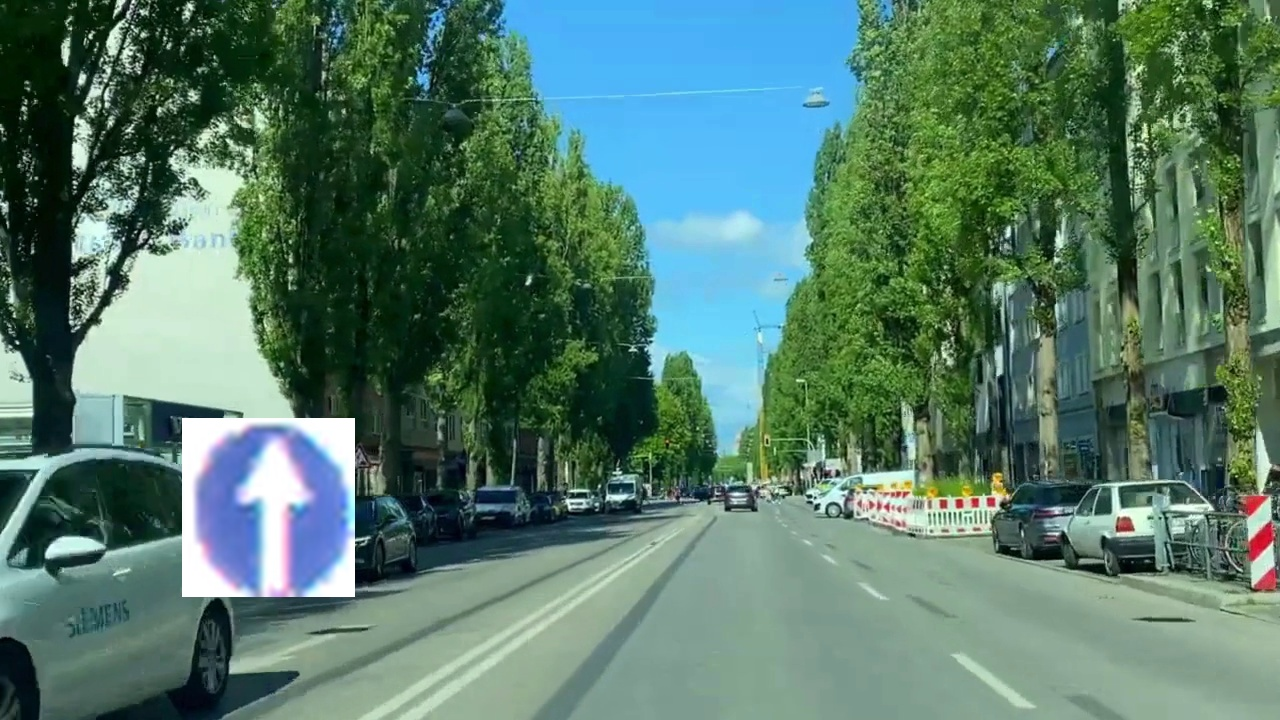Ahead only: (182, 418, 355, 597)
